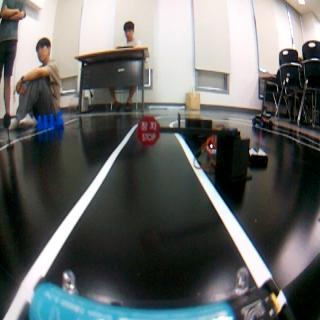stop: (137, 116, 159, 144)
